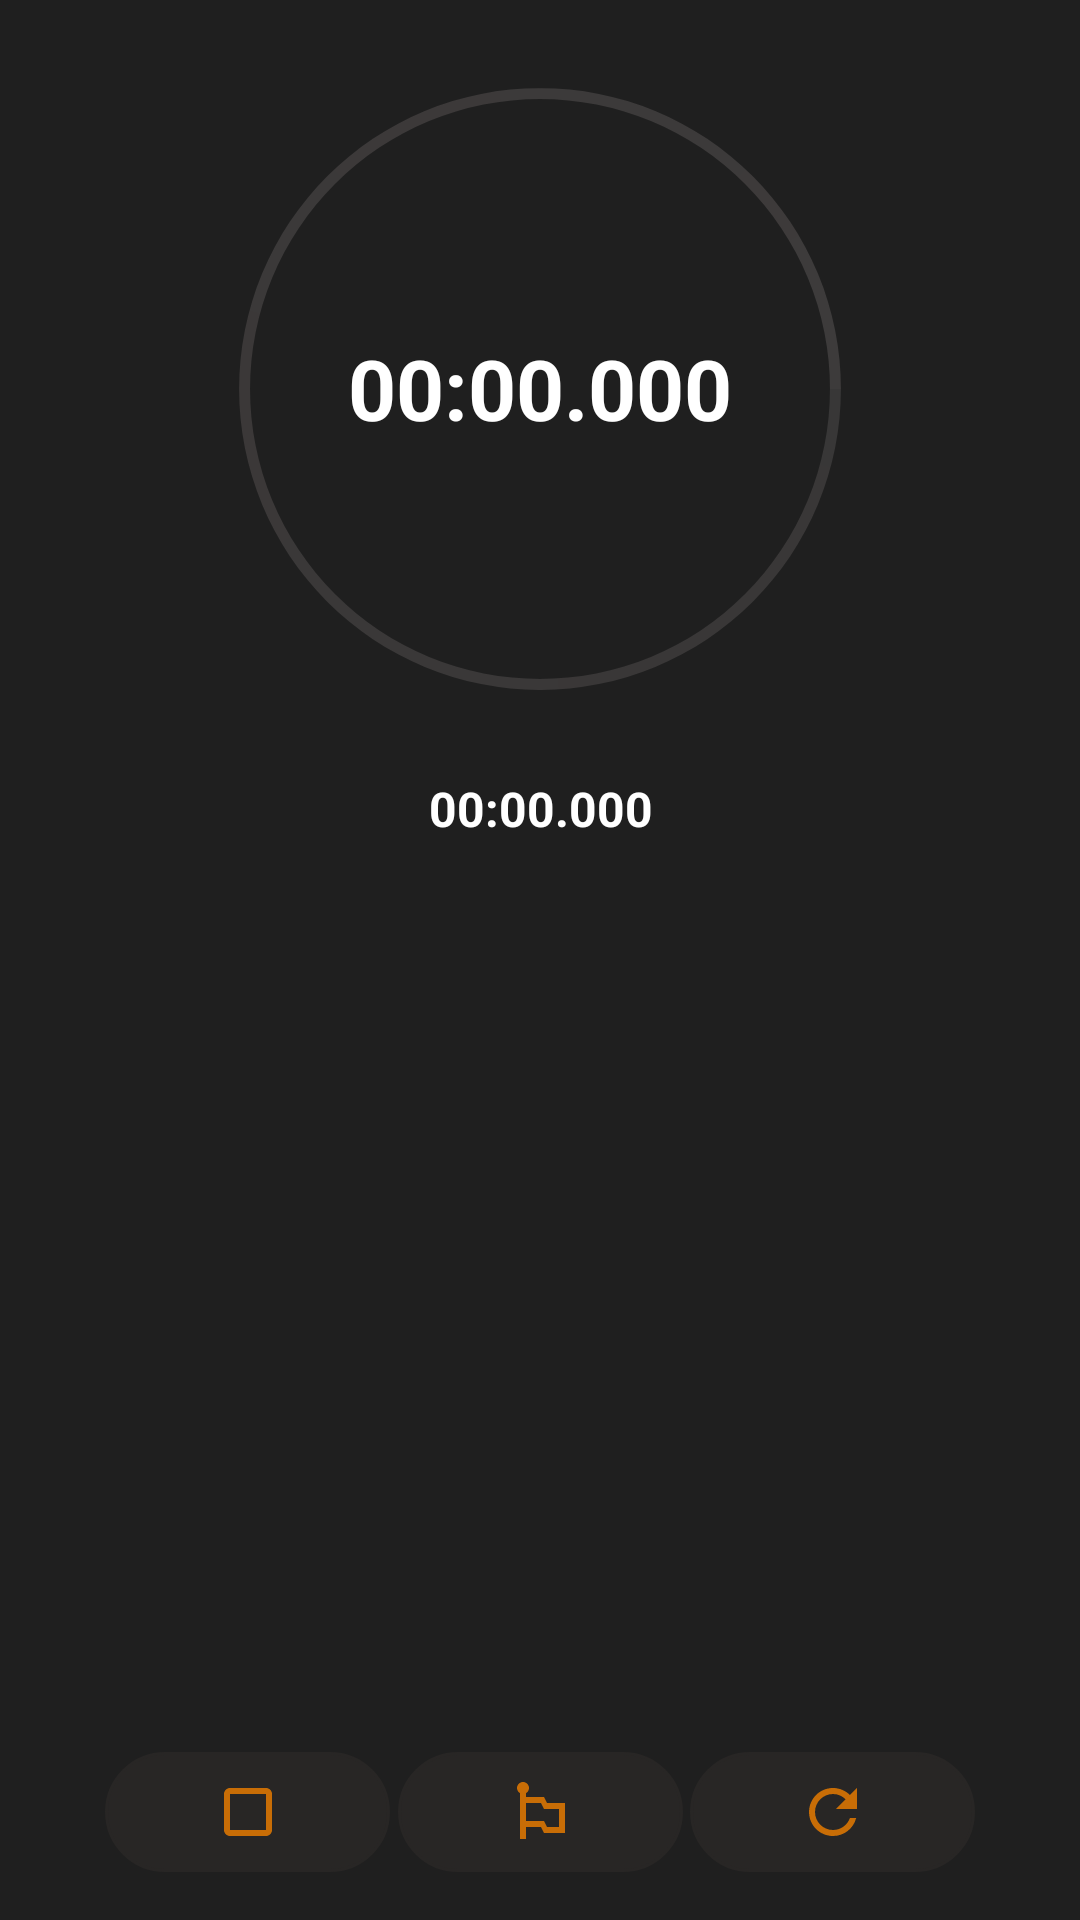

Locate icon controls on the screen. Image size 1080 x 1920, boxes as box=[x1, y1, x2, y2].
crop square: box=[105, 1752, 389, 1872]
emoji flags: box=[398, 1752, 682, 1872]
refresh: box=[690, 1752, 974, 1872]
